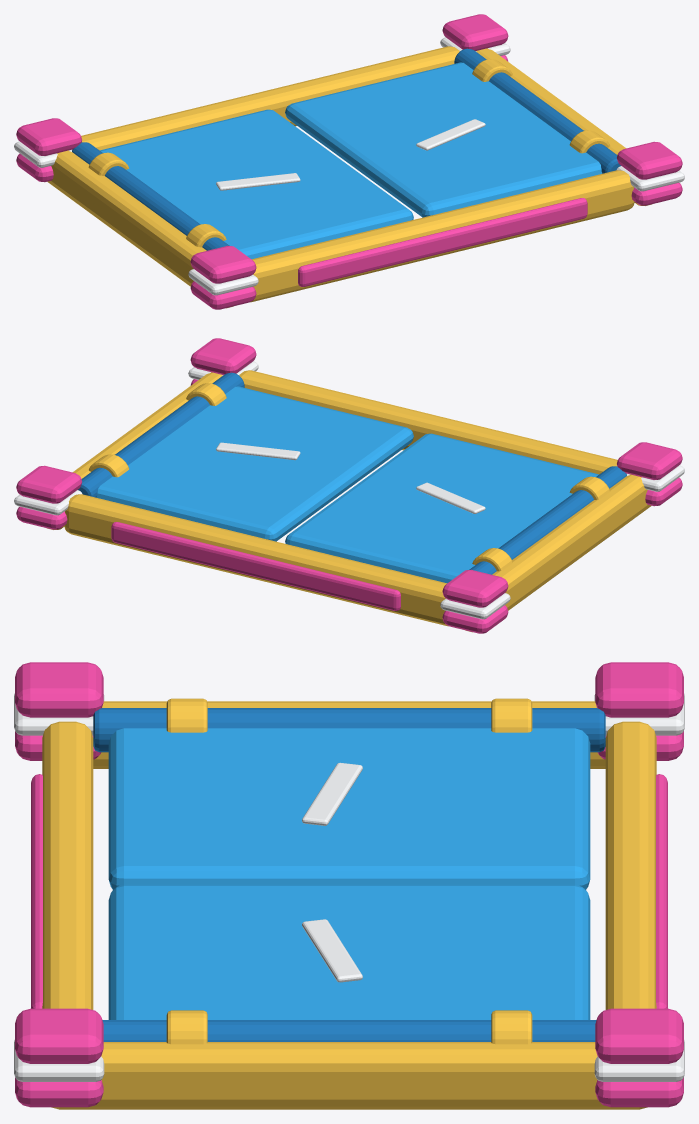
The model's file is trapdoor.glb.
The picture shows the model from 3 angles, top to bottom: view 1: azimuth 30°, elevation 25°; view 2: azimuth 150°, elevation 25°; view 3: azimuth 270°, elevation 25°; orthographic projection. The views are drawn at different scales.
Parts seen in each view (by area): view 1: TrapDoor_Right_visual, TrapDoor_Left_visual, Frame_Front_visual, Frame_Back_visual, Frame_Left_visual, Frame_Front_PinkAccent_visual, Hinge_Right_visual, Hinge_Left_visual, Bumper_FR_PinkUpper_visual, Bumper_FL_PinkUpper_visual, Bumper_BL_PinkUpper_visual, Bumper_BR_PinkUpper_visual (+13 smaller); view 2: TrapDoor_Right_visual, TrapDoor_Left_visual, Frame_Back_visual, Frame_Front_visual, Frame_Left_visual, Frame_Back_PinkAccent_visual, Hinge_Right_visual, Hinge_Left_visual, Bumper_BR_PinkUpper_visual, Bumper_BL_PinkUpper_visual, Bumper_FL_PinkUpper_visual, Bumper_FR_PinkUpper_visual (+13 smaller); view 3: TrapDoor_Left_visual, TrapDoor_Right_visual, Frame_Right_visual, Frame_Back_visual, Frame_Front_visual, Hinge_Left_visual, Hinge_Right_visual, Bumper_BR_PinkUpper_visual, Bumper_FR_PinkUpper_visual, Bumper_BL_PinkUpper_visual, Bumper_FL_PinkUpper_visual, Frame_Left_visual (+16 smaller).
Boxes of the visible parts, left/top/right/bottom form: TrapDoor_Right_visual: left=285, top=62, right=602, bottom=217; TrapDoor_Left_visual: left=100, top=109, right=413, bottom=259; Frame_Front_visual: left=250, top=170, right=634, bottom=302; Frame_Back_visual: left=81, top=46, right=459, bottom=150; Frame_Left_visual: left=47, top=150, right=233, bottom=308; Frame_Front_PinkAccent_visual: left=298, top=198, right=587, bottom=286; Hinge_Right_visual: left=454, top=48, right=620, bottom=173; Hinge_Left_visual: left=72, top=142, right=229, bottom=250; Bumper_FR_PinkUpper_visual: left=617, top=141, right=682, bottom=179; Bumper_FL_PinkUpper_visual: left=190, top=245, right=256, bottom=283; Bumper_BL_PinkUpper_visual: left=16, top=118, right=81, bottom=155; Bumper_BR_PinkUpper_visual: left=442, top=14, right=508, bottom=50; TrapDoor_Right_visual: left=96, top=386, right=413, bottom=541; TrapDoor_Left_visual: left=285, top=433, right=598, bottom=583; Frame_Back_visual: left=64, top=494, right=448, bottom=626; Frame_Front_visual: left=239, top=370, right=617, bottom=474; Frame_Left_visual: left=465, top=474, right=651, bottom=632; Frame_Back_PinkAccent_visual: left=111, top=522, right=400, bottom=610; Hinge_Right_visual: left=78, top=372, right=244, bottom=497; Hinge_Left_visual: left=469, top=466, right=626, bottom=574; Bumper_BR_PinkUpper_visual: left=16, top=465, right=81, bottom=503; Bumper_BL_PinkUpper_visual: left=442, top=569, right=508, bottom=607; Bumper_FL_PinkUpper_visual: left=617, top=442, right=682, bottom=479; Bumper_FR_PinkUpper_visual: left=190, top=338, right=256, bottom=374; TrapDoor_Left_visual: left=108, top=728, right=590, bottom=889; TrapDoor_Right_visual: left=108, top=884, right=590, bottom=1019; Frame_Right_visual: left=51, top=1042, right=647, bottom=1109; Frame_Back_visual: left=605, top=721, right=656, bottom=1009; Frame_Front_visual: left=42, top=721, right=93, bottom=1009; Hinge_Left_visual: left=93, top=708, right=605, bottom=752; Hinge_Right_visual: left=102, top=1020, right=596, bottom=1041; Bumper_BR_PinkUpper_visual: left=595, top=1008, right=683, bottom=1063; Bumper_FR_PinkUpper_visual: left=15, top=1008, right=103, bottom=1063; Bumper_BL_PinkUpper_visual: left=595, top=662, right=683, bottom=717; Bumper_FL_PinkUpper_visual: left=15, top=662, right=103, bottom=717; Frame_Left_visual: left=93, top=701, right=605, bottom=768.
Size of what is drawn, in the model's own units: 5.33 by 0.553 by 3.93.
